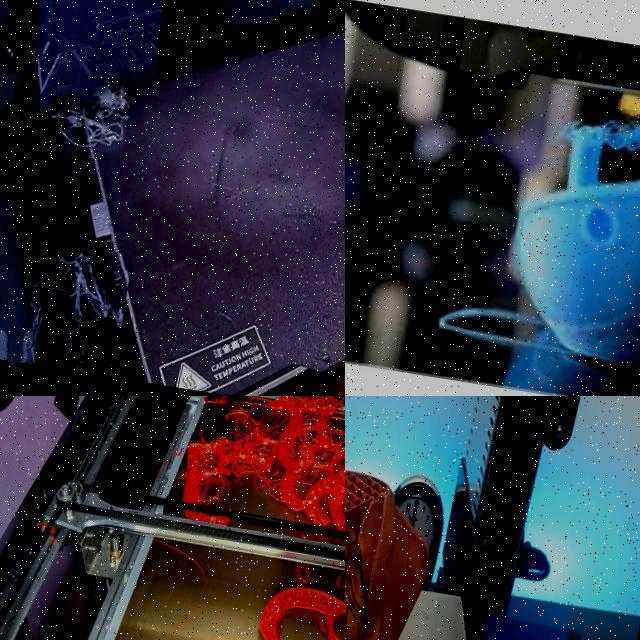spaghetti: (162, 396, 345, 569), (12, 247, 123, 370), (555, 99, 640, 183), (51, 84, 133, 162)
